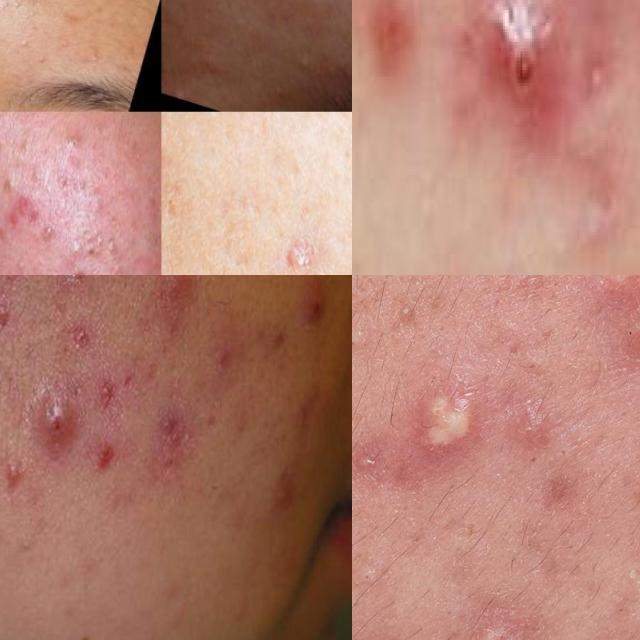acne_scars: (270, 382, 322, 530), (0, 178, 41, 237)
comedone: (0, 515, 61, 585), (76, 216, 124, 274), (32, 211, 68, 260), (4, 27, 33, 52), (28, 257, 68, 275), (86, 46, 104, 68)
cystic: (25, 376, 83, 474)
papule: (366, 0, 409, 92)
pustule: (485, 0, 557, 114), (455, 612, 512, 640), (2, 455, 28, 498)
sebo-crystan-conglo: (410, 359, 486, 472), (538, 428, 593, 478), (299, 275, 339, 334), (51, 120, 87, 171)
